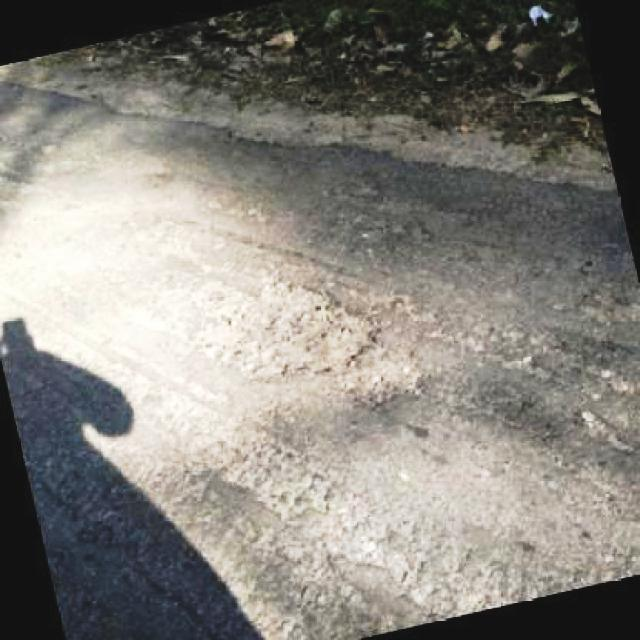pothole: (168, 423, 423, 585), (144, 269, 382, 380), (507, 320, 640, 463)
